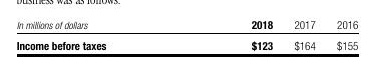table: (0, 0, 378, 79)
